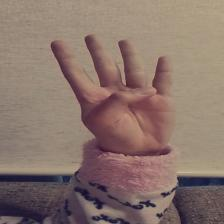four: (33, 30, 214, 162)
